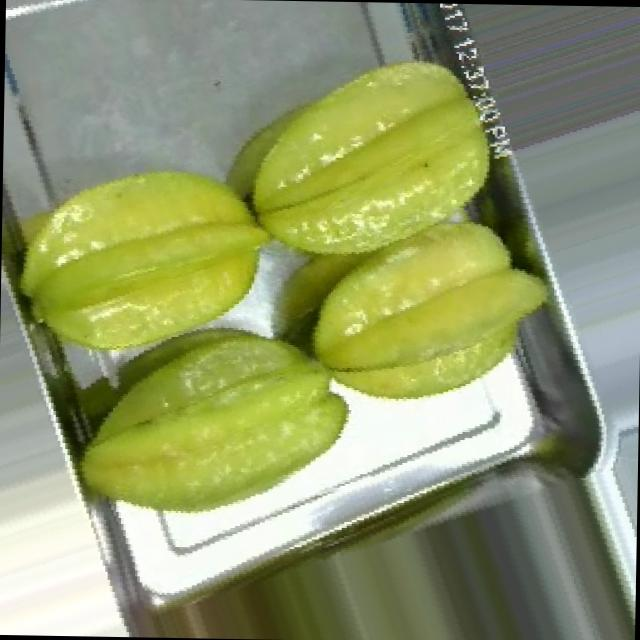fruit: (43, 273, 380, 567), (214, 28, 528, 320), (248, 165, 568, 434), (0, 128, 291, 393), (198, 464, 543, 640)
